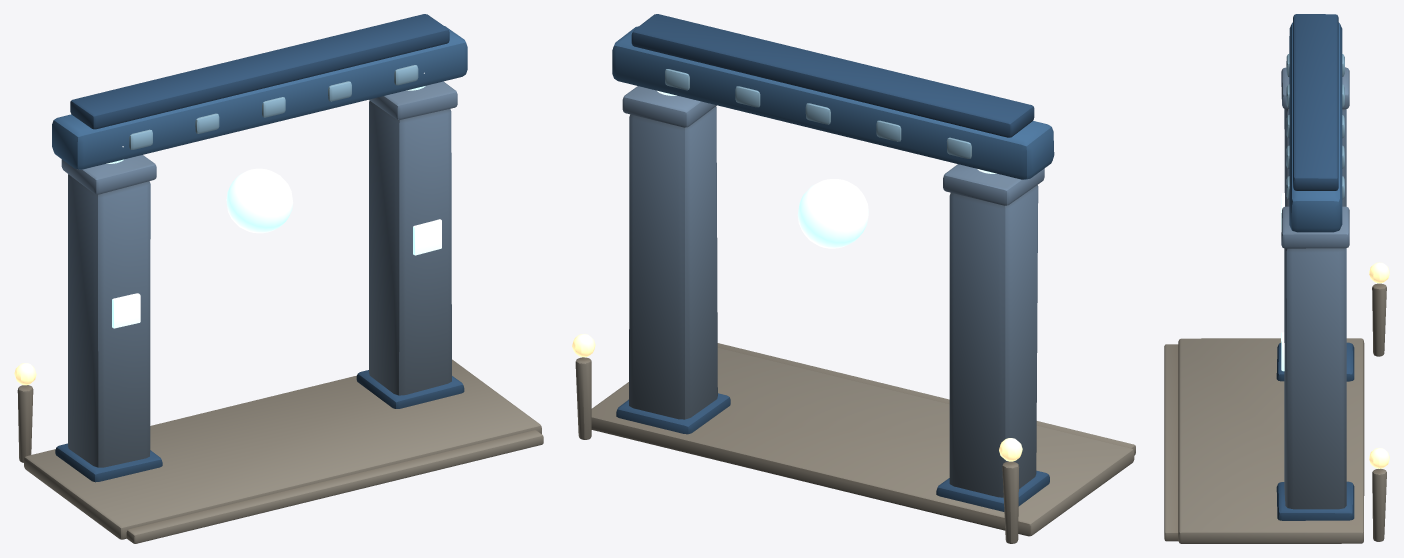
3 views of the same model, side by side, from view 1: azimuth 30°, elevation 25°; view 2: azimuth 150°, elevation 25°; view 3: azimuth 270°, elevation 25° (orthographic). The views are drawn at different scales.
Visible parts, largest first — view 1: gate_6f15711e; view 2: gate_6f15711e; view 3: gate_6f15711e.
Part boxes in pixels (x1=…): gate_6f15711e: x1=14, y1=14, x2=543, y2=543; gate_6f15711e: x1=572, y1=14, x2=1135, y2=543; gate_6f15711e: x1=1164, y1=14, x2=1389, y2=543.
Bounding box in the file's own units: 5.23 × 4.41 × 2.55.
